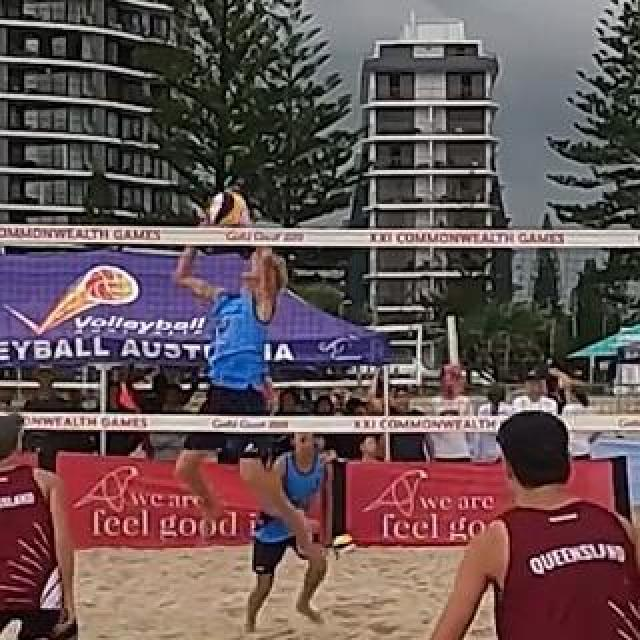volleyball: (210, 190, 244, 224), (334, 533, 356, 555)
